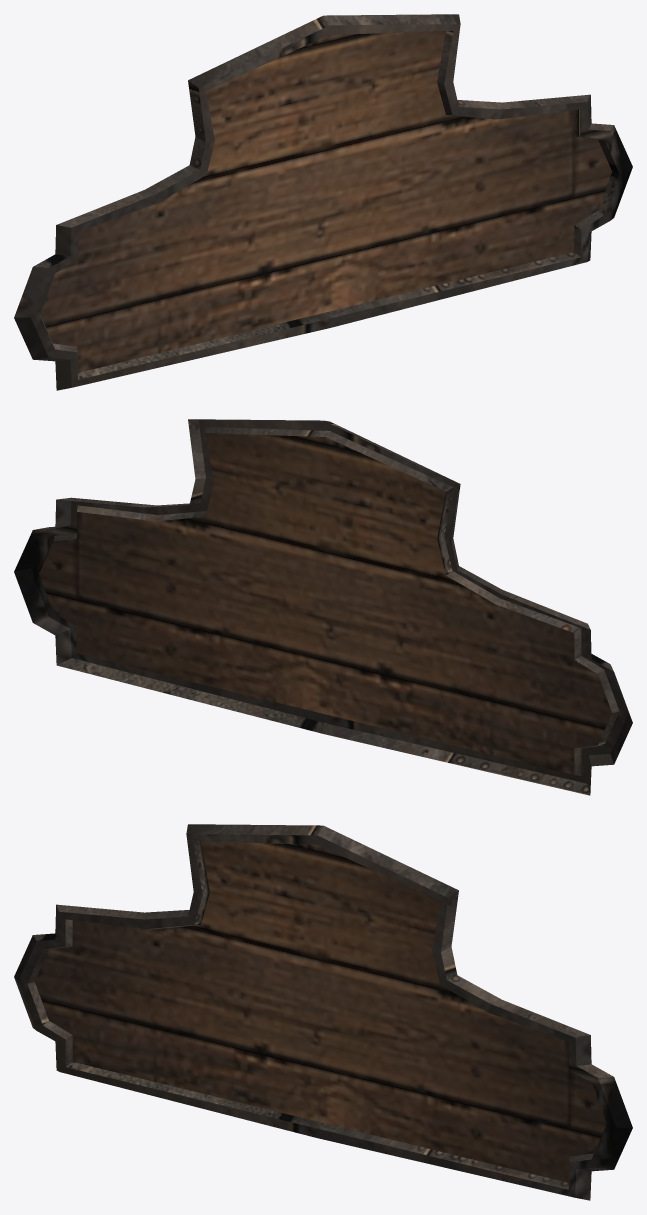
The model's file is singboard_2.fbx.
The picture shows the model from 3 angles, top to bottom: view 1: azimuth 30°, elevation 25°; view 2: azimuth 150°, elevation 25°; view 3: azimuth 330°, elevation 25°; orthographic projection.
Parts seen in each view (by area): view 1: singboard_2; view 2: singboard_2; view 3: singboard_2.
Boxes of the visible parts, x1=… form: singboard_2: x1=14, y1=14, x2=632, y2=390; singboard_2: x1=14, y1=419, x2=632, y2=795; singboard_2: x1=14, y1=824, x2=632, y2=1200.
Bounding box in the file's own units: 5.78 × 2.8 × 0.0995.
